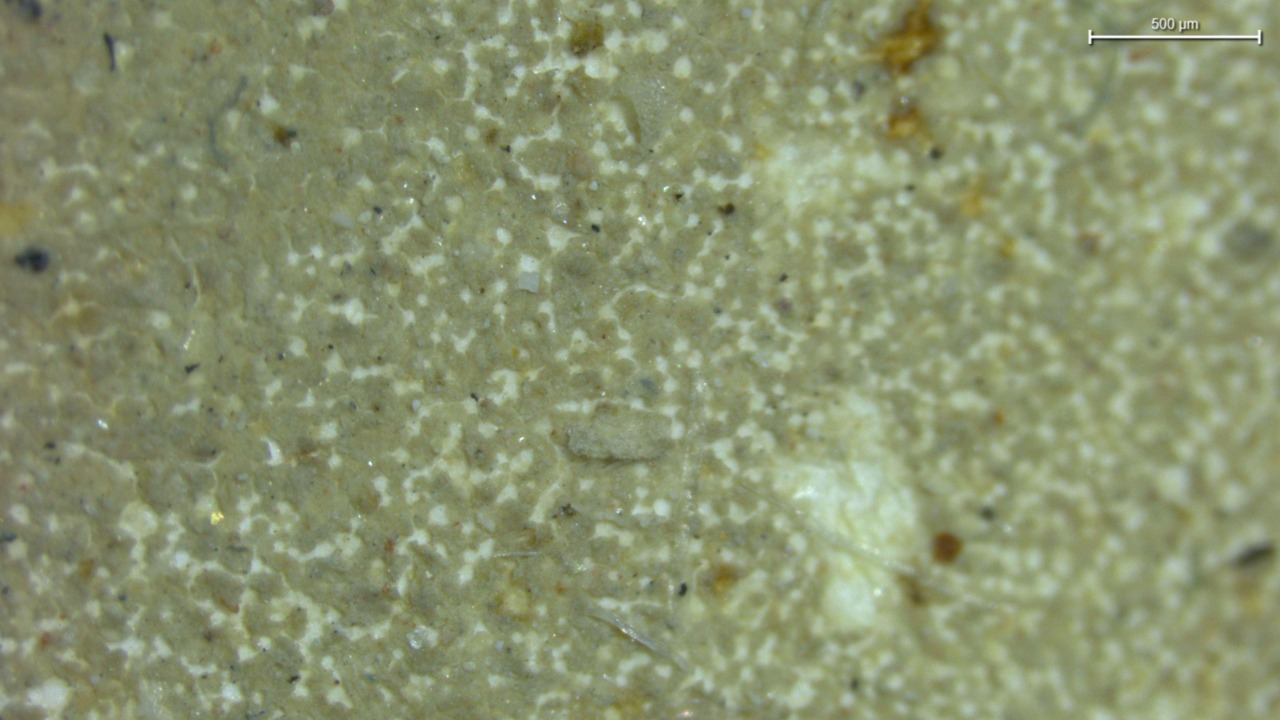microplastic_fragment: (567, 403, 673, 461)
